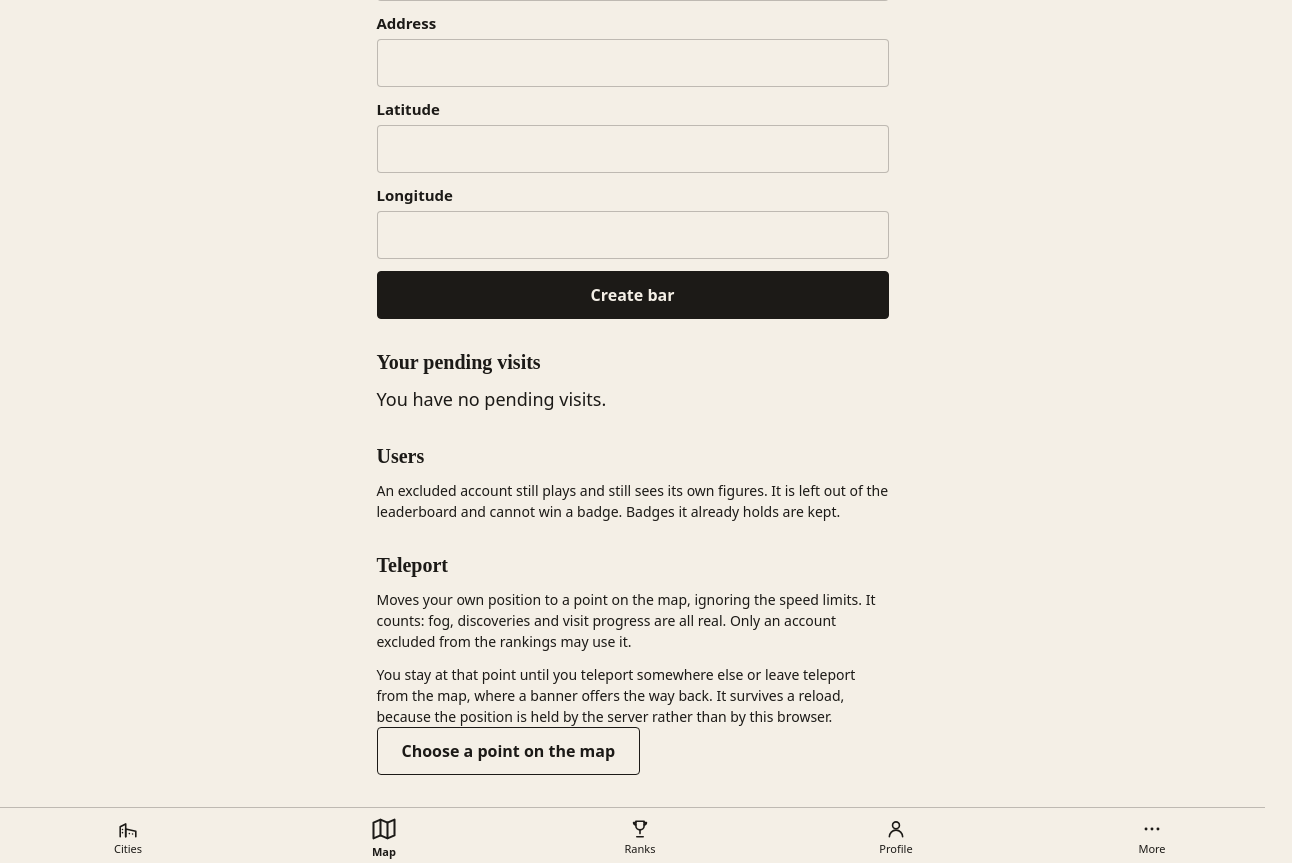
admin teleport › says the feature is off when the route does not exist, without showing the raw 404
(page scrolled)
Click the button "Choose a point on the map".
click(508, 751)  # box [376,727,640,775]
(page scrolled)
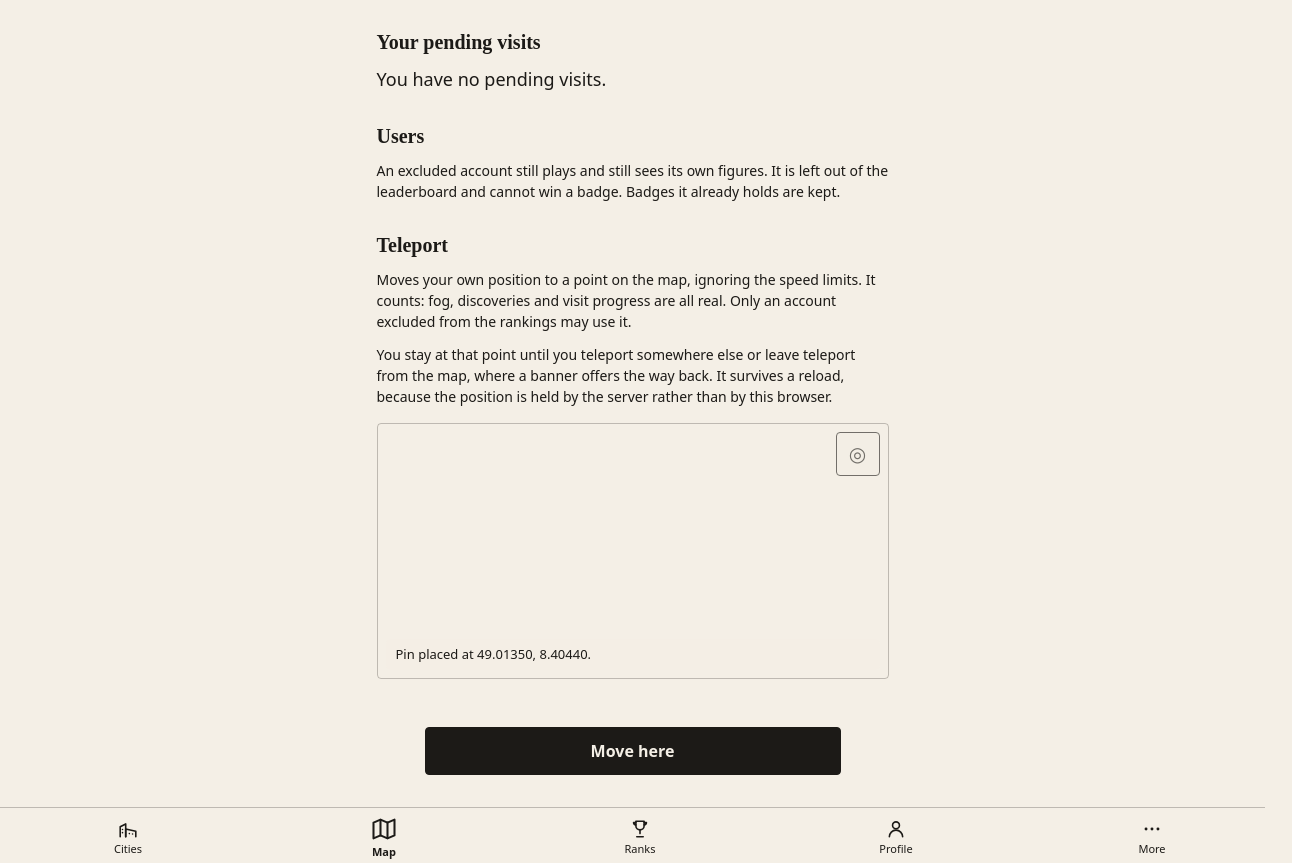
Click the button "Move here".
click(632, 751)  # box [424,727,840,775]
(page scrolled)
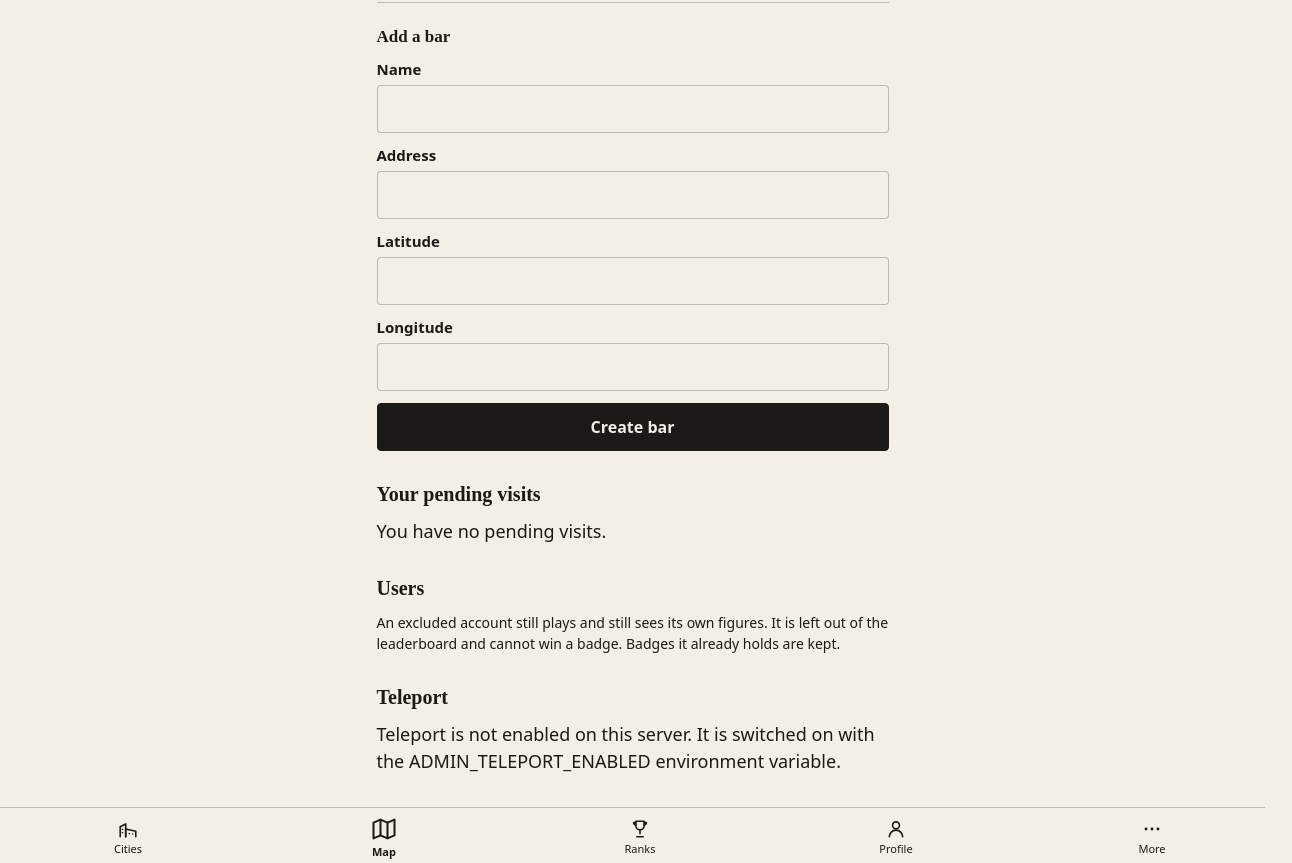
Now the element with class "admin__section" shows "Teleport is not enabled on this server", box [376,722,875,773]
Now the element with class "admin__section" shows "ADMIN_TELEPORT_ENABLED", box [376,722,875,773]
Now the element with class "map-picker" is gone
